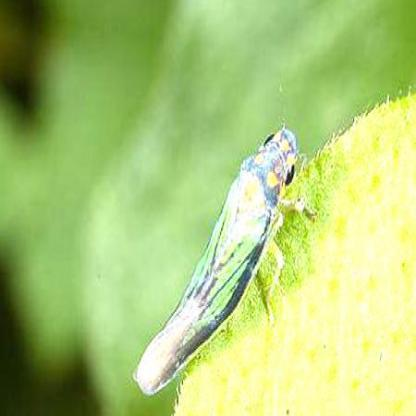green-leafhopper: (134, 129, 320, 396)
